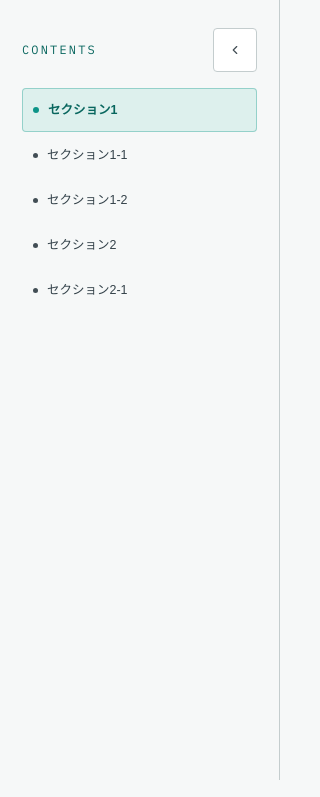
Test: TableOfContents（デスクトップ表示） › 折りたたむと文字は消えるが、行そのものは残る（現在位置が分かる）
Expected: the text "セクション1" is shown, top-left (48, 101), bottom-right (118, 119)
Click the button named "目次を折りたたむ". click: (235, 50)
box: top-left (213, 28), bottom-right (257, 72)
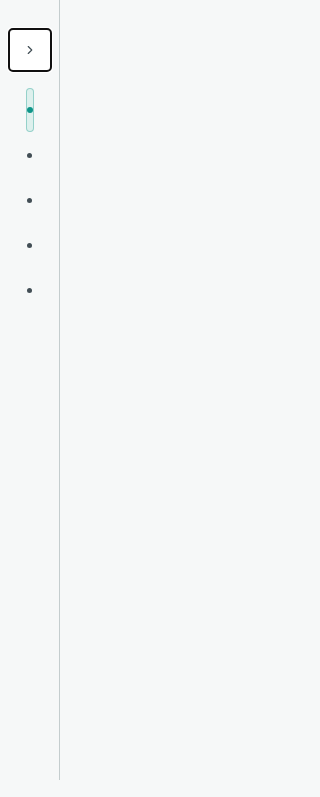
Result: the text "セクション1" is gone
Click the button named "目次を開く". click: (30, 50)
box: top-left (8, 28), bottom-right (52, 72)
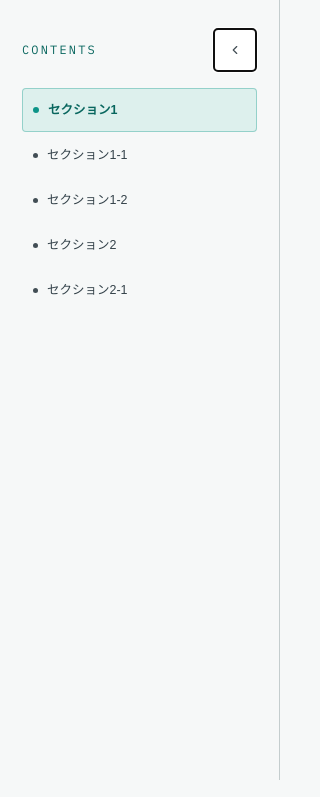
Result: the text "セクション1" is shown at top-left (48, 101), bottom-right (118, 119)
